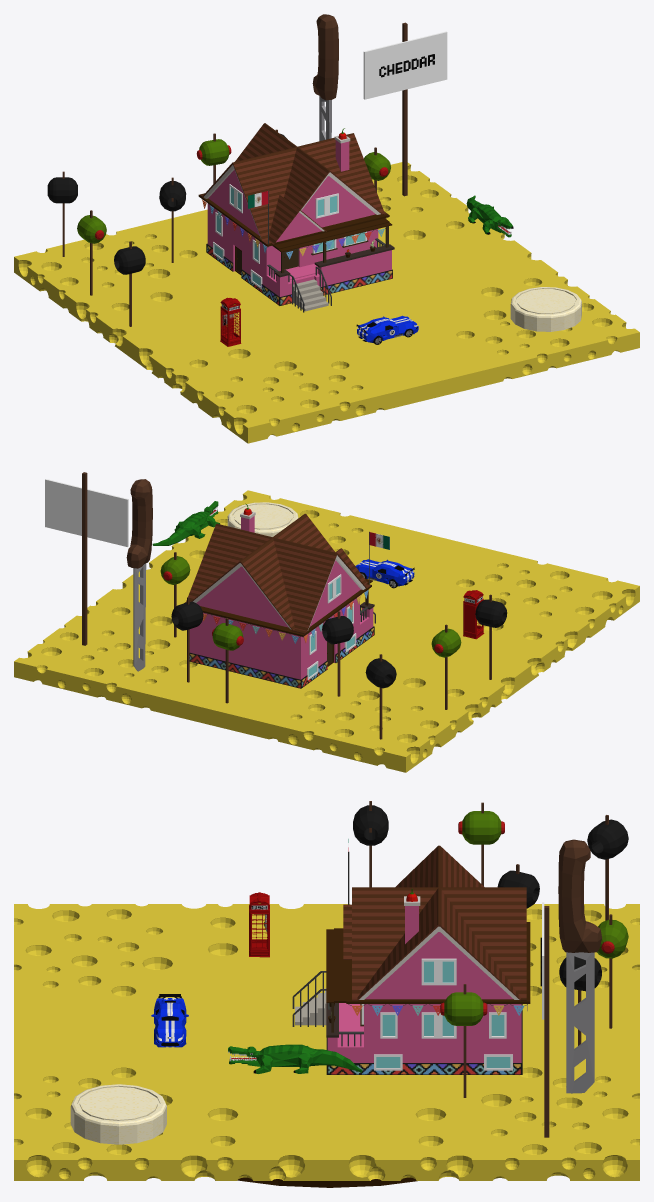
3 renders of one model, top to bottom at view 1: azimuth 30°, elevation 25°; view 2: azimuth 150°, elevation 25°; view 3: azimuth 270°, elevation 25°, orthographic. The views are drawn at different scales.
Visible parts, largest first — view 1: Cube.022, Cube.1005, Cube.023, Cylinder.016, Cube.024, VEHICLES_RACING_CAR, ANIMAL_COCODRILO, OBJRANDOM_PHONEBOOTH, Sphere.017, Sphere.016, Sphere.020, Sphere.018 (+2 smaller); view 2: Cube.022, Cube.1005, Cube.023, Cube.024, Cylinder.016, VEHICLES_RACING_CAR, ANIMAL_COCODRILO, Sphere.020, Sphere.016, Sphere.022, Sphere.017, Sphere.021 (+3 smaller); view 3: Cube.022, Cube.1005, Cube.024, Cylinder.016, ANIMAL_COCODRILO, Cube.023, VEHICLES_RACING_CAR, Sphere.019, Sphere.016, Sphere.018, Sphere.017, Sphere.022 (+4 smaller).
Part boxes in pixels (box(x1,y1,x2,y2)): Cube.022: box(14, 162, 639, 443); Cube.1005: box(198, 123, 394, 312); Cube.023: box(363, 22, 447, 196); Cylinder.016: box(510, 287, 581, 331); Cube.024: box(312, 14, 338, 141); VEHICLES_RACING_CAR: box(356, 315, 418, 344); ANIMAL_COCODRILO: box(466, 195, 513, 237); OBJRANDOM_PHONEBOOTH: box(220, 297, 241, 346); Sphere.017: box(114, 241, 145, 326); Sphere.016: box(47, 171, 77, 256); Sphere.020: box(159, 177, 186, 262); Sphere.018: box(77, 210, 106, 295); Cube.022: box(14, 490, 639, 772); Cube.1005: box(184, 503, 389, 688); Cube.023: box(45, 472, 128, 645); Cube.024: box(126, 479, 152, 671); Cylinder.016: box(227, 502, 298, 536); VEHICLES_RACING_CAR: box(355, 559, 414, 588); ANIMAL_COCODRILO: box(152, 501, 219, 545); Sphere.020: box(322, 611, 353, 696); Sphere.016: box(365, 654, 396, 739); Sphere.022: box(212, 618, 243, 703); Sphere.017: box(475, 594, 507, 679); Sphere.021: box(171, 597, 203, 682); Cube.022: box(14, 904, 639, 1180); Cube.1005: box(292, 839, 530, 1074); Cube.024: box(558, 839, 601, 1093); Cylinder.016: box(70, 1084, 166, 1144); ANIMAL_COCODRILO: box(228, 1044, 362, 1073); Cube.023: box(540, 902, 549, 1137); VEHICLES_RACING_CAR: box(151, 994, 188, 1047); Sphere.019: box(440, 984, 487, 1097); Sphere.016: box(587, 815, 628, 920); Sphere.018: box(458, 802, 504, 885); Sphere.017: box(353, 801, 388, 887); Sphere.022: box(597, 914, 628, 1028).
Bounding box in the file's own units: 3917 × 2073 × 4000.
Materials: 81 (5 with a texture image).
